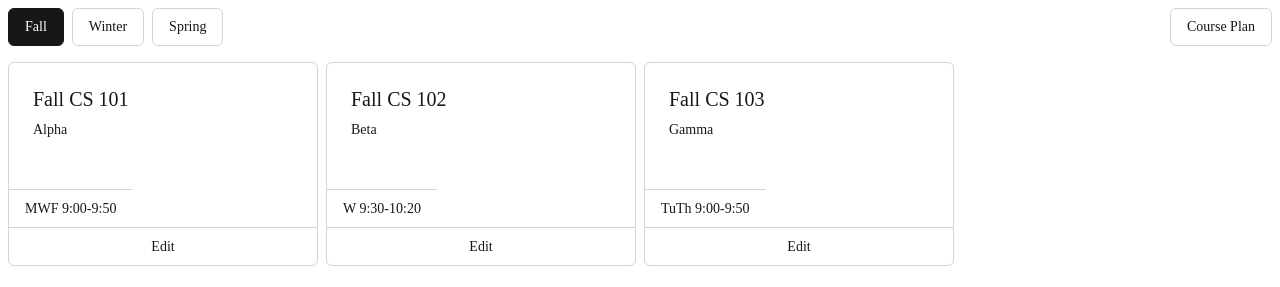
Test case: TermPage time conflicts › does not conflict across terms
The image size is (1280, 287).
Click the button "Fall CS 101 Alpha MWF 9:00-9:50": (49,99) [9, 63, 317, 227]
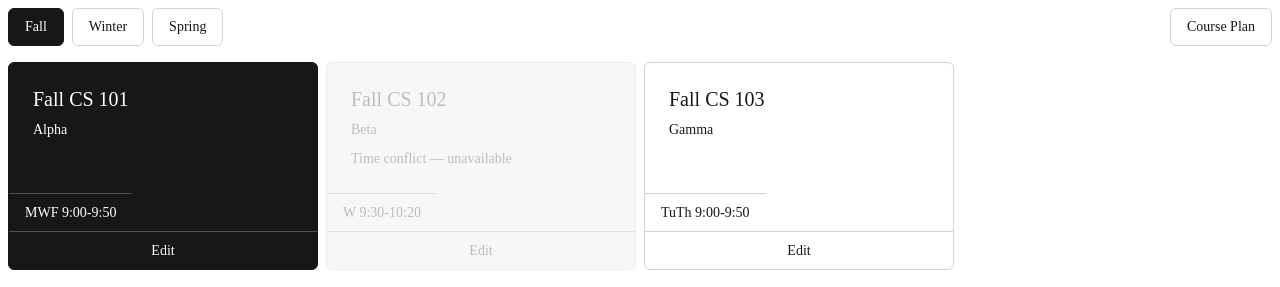
Click the button "Spring": (188,27) [152, 8, 223, 46]
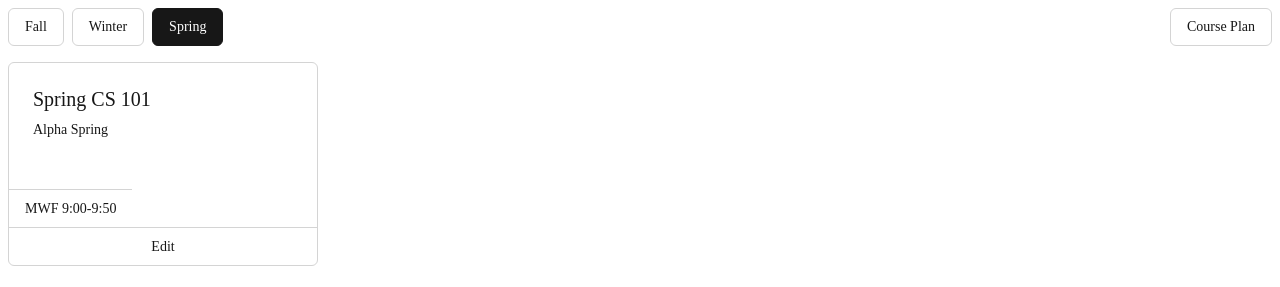
Check: the button "Spring CS 101 Alpha Spring MWF 9:00-9:50" is enabled, box [9, 63, 317, 227]
